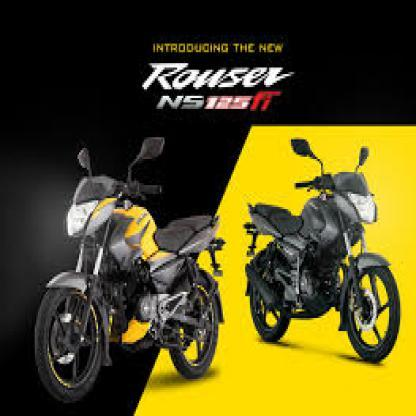Motorcycle: (35, 124, 236, 400), (241, 122, 402, 364)
